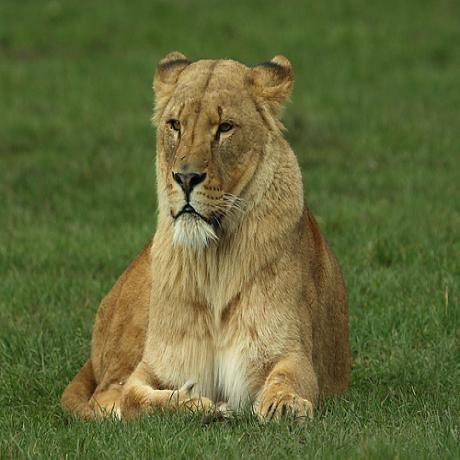Lion: (67, 46, 350, 427)
